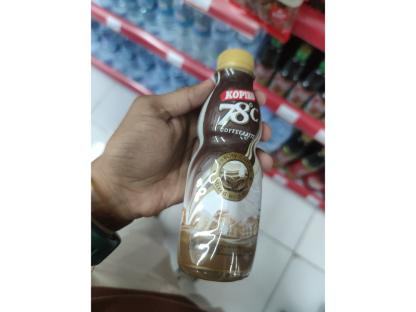Plastic Bottle: (163, 42, 273, 296)
